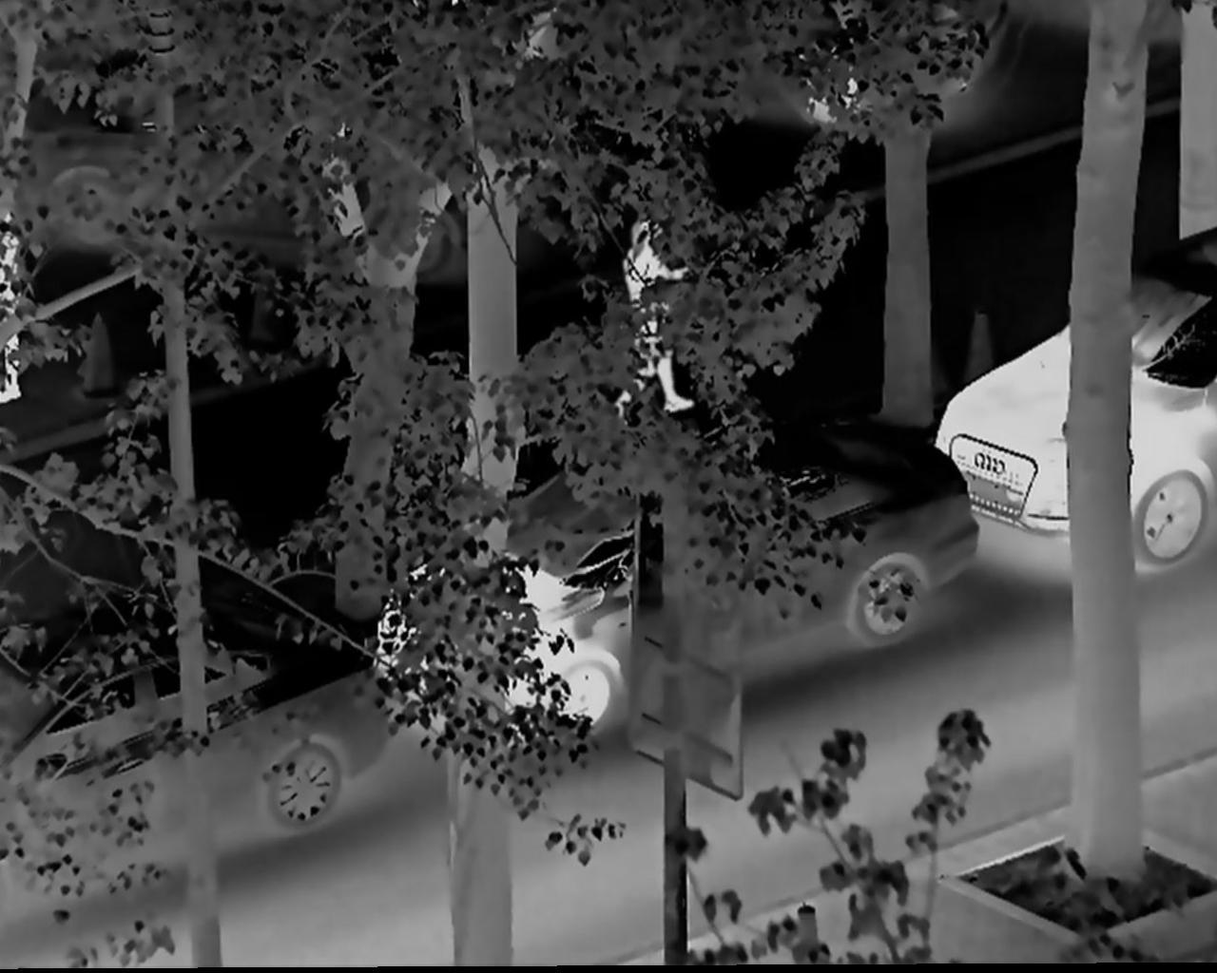person: (615, 209, 707, 432)
